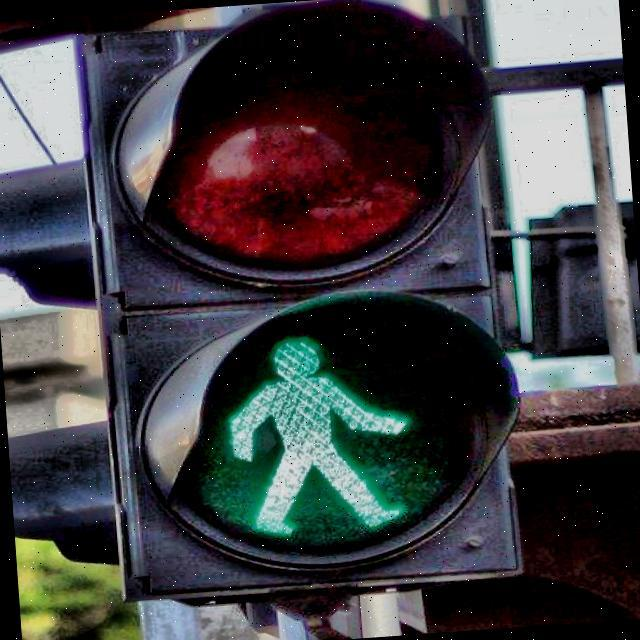green_light: (214, 325, 423, 543)
